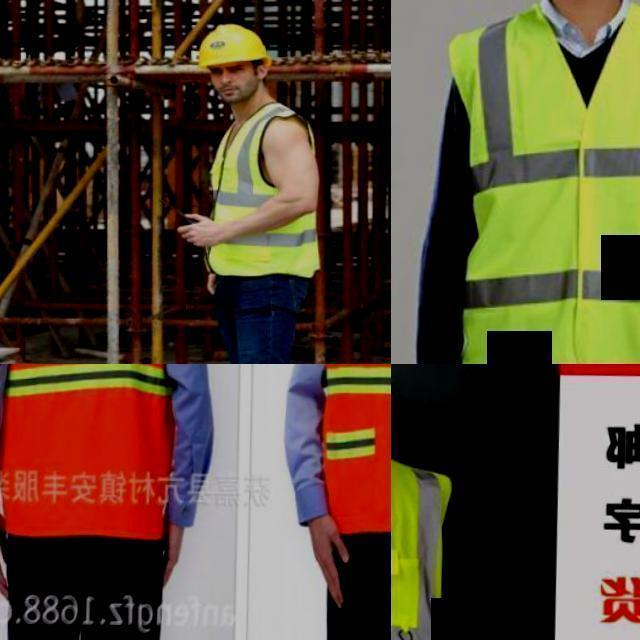vest: (454, 0, 640, 364), (0, 364, 178, 539), (207, 97, 314, 276)
